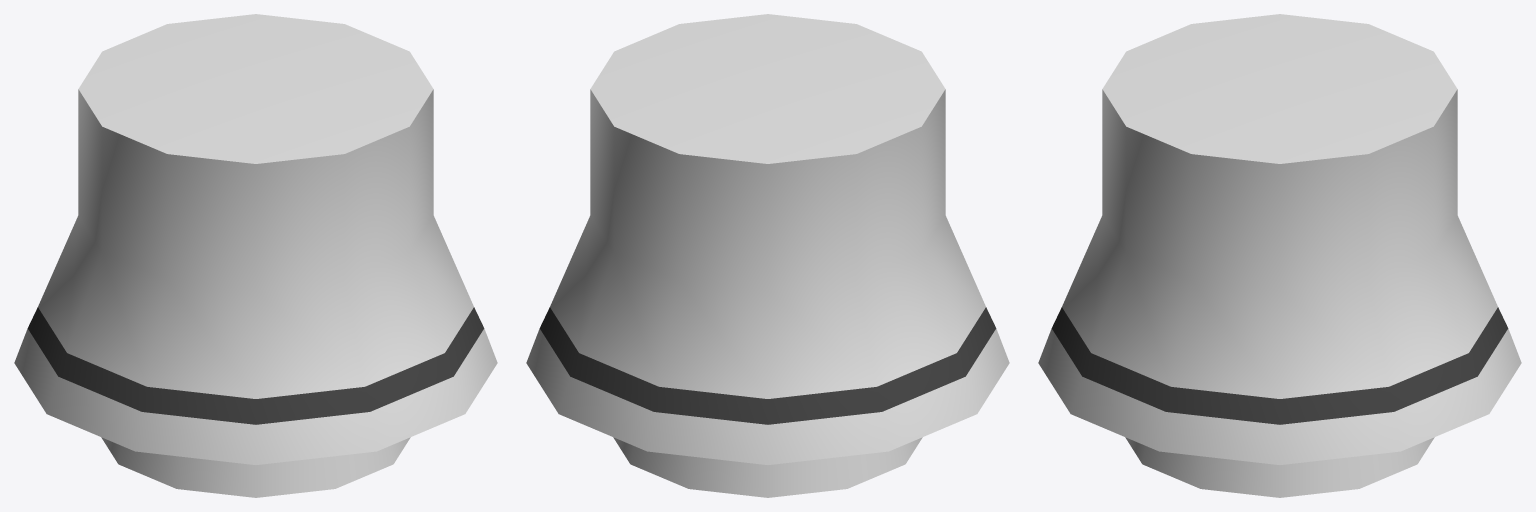
Rendered from M_Rocket_part.fbx.
3 renders of one model, left to right at view 1: azimuth 30°, elevation 25°; view 2: azimuth 150°, elevation 25°; view 3: azimuth 270°, elevation 25°, orthographic.
Parts seen in each view (by area): view 1: M_Rocket_part; view 2: M_Rocket_part; view 3: M_Rocket_part.
Part boxes in pixels (x1,y1,x2,y2): M_Rocket_part: (14,14,497,497); M_Rocket_part: (526,14,1009,497); M_Rocket_part: (1038,14,1521,497).
Size of the model in its own units: 168 by 133 by 168.
